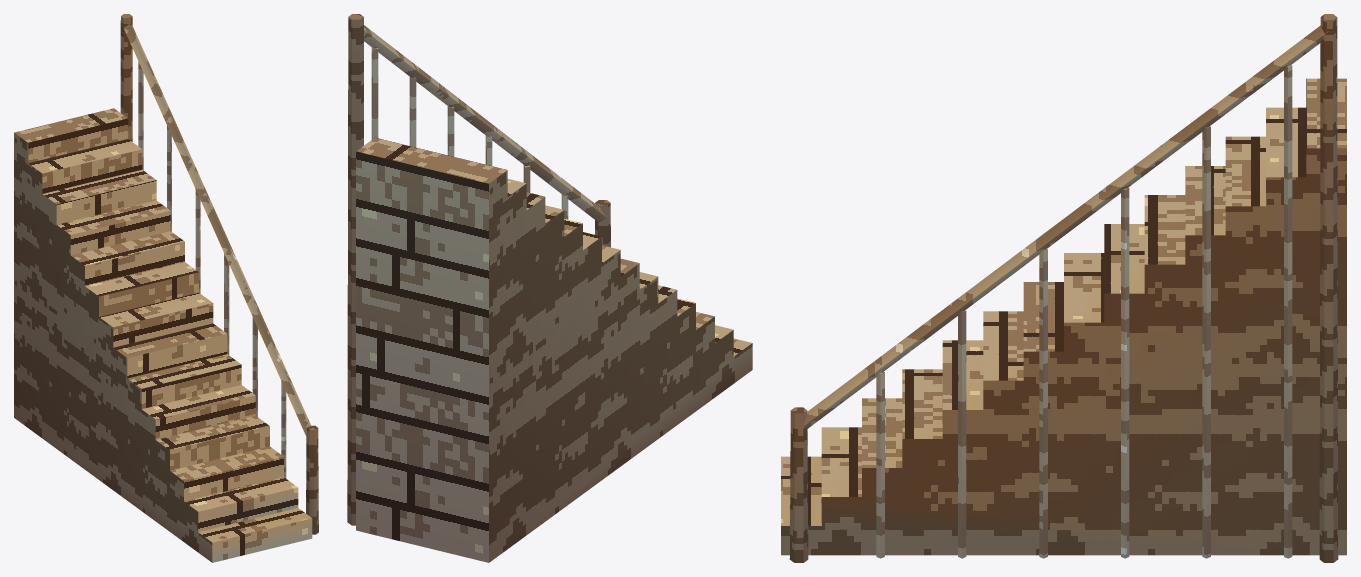
The model's file is wtown.stairs__gallery.glb.
3 views of the same model, side by side, from view 1: azimuth 30°, elevation 25°; view 2: azimuth 150°, elevation 25°; view 3: azimuth 270°, elevation 25° (orthographic). The views are drawn at different scales.
Visible parts, largest first — view 1: kit_treads, kit_rail, kit_spindles, kit_rail_posts; view 2: kit_treads, kit_rail_posts, kit_rail, kit_spindles; view 3: kit_treads, kit_spindles, kit_rail_posts, kit_rail.
Part boxes in pixels (bbox=[...]): kit_treads: bbox=[14, 108, 312, 562]; kit_rail: bbox=[122, 24, 310, 437]; kit_spindles: bbox=[138, 61, 286, 478]; kit_rail_posts: bbox=[120, 14, 318, 534]; kit_treads: bbox=[356, 137, 752, 562]; kit_rail_posts: bbox=[347, 14, 610, 525]; kit_rail: bbox=[362, 25, 606, 222]; kit_spindles: bbox=[371, 47, 568, 219]; kit_treads: bbox=[781, 78, 1346, 555]; kit_spindles: bbox=[876, 65, 1292, 558]; kit_rail_posts: bbox=[789, 14, 1338, 562]; kit_rail: bbox=[799, 25, 1328, 429].
Bounding box in the file's own units: 1.22 × 4 × 3.78.
Materials: 4 (4 with a texture image).
